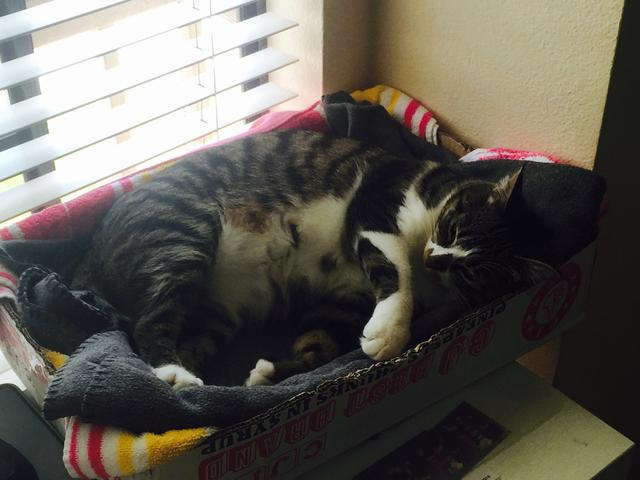playdoh: (73, 129, 527, 393)
